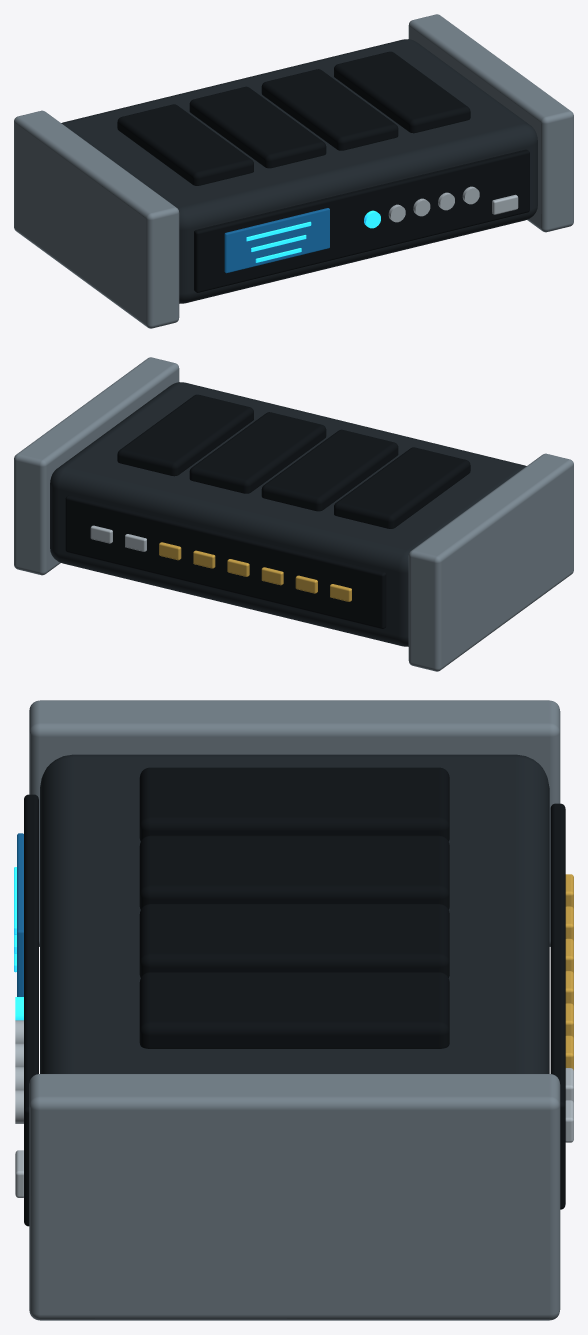
The model's file is network-video-recorder.glb.
3 renders of one model, top to bottom at view 1: azimuth 30°, elevation 25°; view 2: azimuth 150°, elevation 25°; view 3: azimuth 270°, elevation 25°, orthographic. The views are drawn at different scales.
Visible parts, largest first — view 1: Rack ear (×2), NVR chassis, Internal drive bay (×4), NVR front panel, Status display, Professional security network video recorder, USB port; view 2: NVR chassis, Rack ear (×2), Internal drive bay (×4), Rear IO panel; view 3: Rack ear (×2), Internal drive bay (×4), NVR chassis, Rear IO panel, NVR front panel, Status display.
Boxes of the visible parts, box(x1,y1,x2,y2) form: Rack ear (×2): box(14, 14, 573, 328); NVR chassis: box(61, 39, 537, 303); Internal drive bay (×4): box(117, 51, 470, 185); NVR front panel: box(194, 149, 529, 292); Status display: box(224, 208, 329, 273); Professional security network video recorder: box(246, 221, 311, 262); USB port: box(492, 194, 518, 214); NVR chassis: box(50, 382, 526, 646); Rack ear (×2): box(14, 357, 573, 671); Internal drive bay (×4): box(117, 394, 470, 528); Rear IO panel: box(65, 495, 386, 628); Rack ear (×2): box(29, 700, 560, 1320); Internal drive bay (×4): box(139, 767, 449, 1048); NVR chassis: box(40, 754, 549, 1073); Rear IO panel: box(550, 803, 565, 1209); NVR front panel: box(24, 794, 38, 1226); Status display: box(17, 833, 23, 996).
Size of the model in its own units: 2.25 by 0.59 by 1.32.
